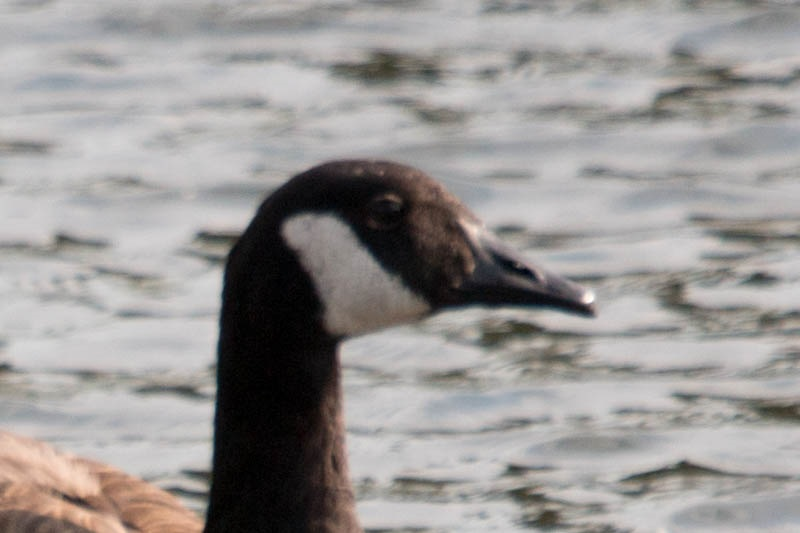goose-head: (221, 158, 598, 342)
